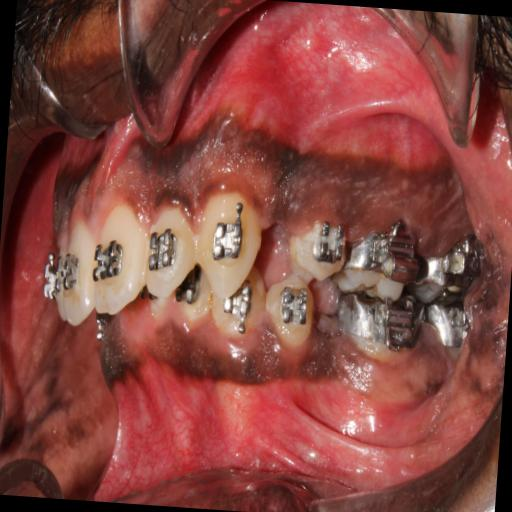correct_brace: (284, 205, 346, 286), (206, 214, 248, 272), (144, 225, 182, 277), (94, 233, 126, 284)
incorrect_brace: (142, 199, 194, 309), (311, 213, 348, 267)
